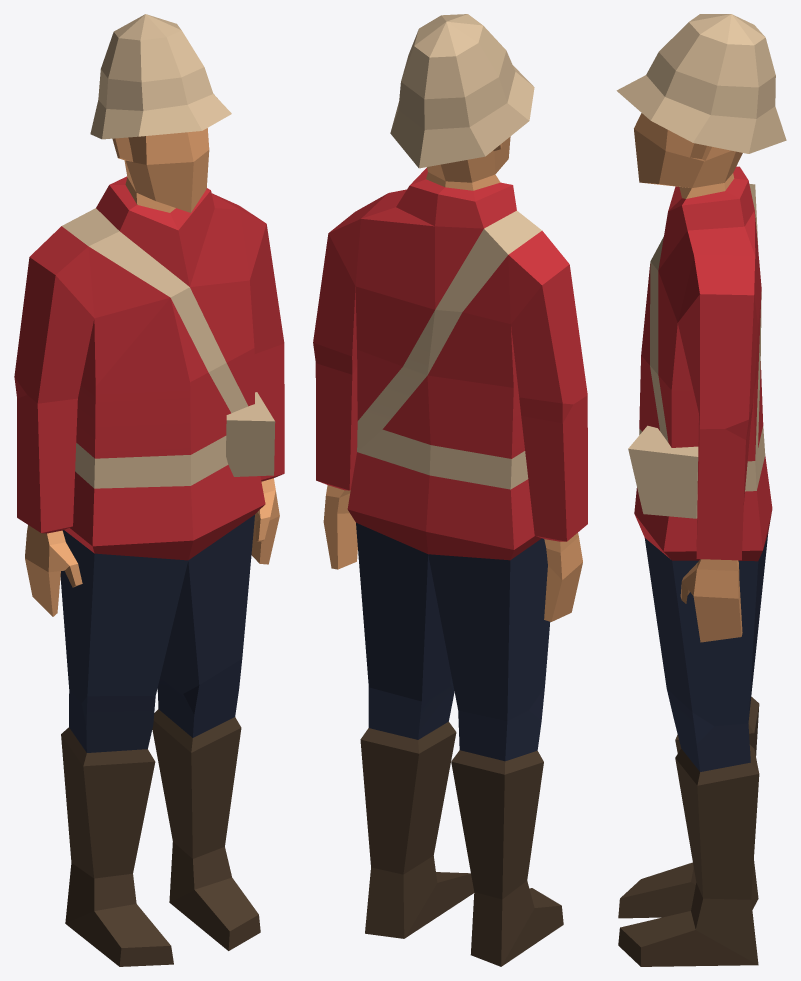
Rendered from people_man-zulu-uk.fbx.
3 views of the same model, side by side, from view 1: azimuth 30°, elevation 25°; view 2: azimuth 150°, elevation 25°; view 3: azimuth 270°, elevation 25° (orthographic).
Visible parts, largest first — view 1: people_man_zulu_uk; view 2: people_man_zulu_uk; view 3: people_man_zulu_uk.
Boxes of the visible parts, x1,y1,x2,y2 form: people_man_zulu_uk: (14, 14, 284, 966); people_man_zulu_uk: (313, 14, 587, 966); people_man_zulu_uk: (616, 14, 786, 966).
Size of the model in its own units: 57.18 by 200 by 33.63.
